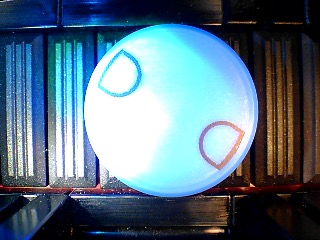MIPO2: (82, 22, 258, 198)
